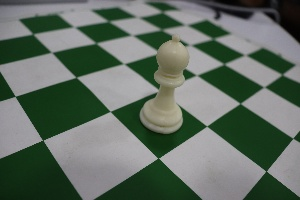white_bishop: (133, 15, 197, 147)
